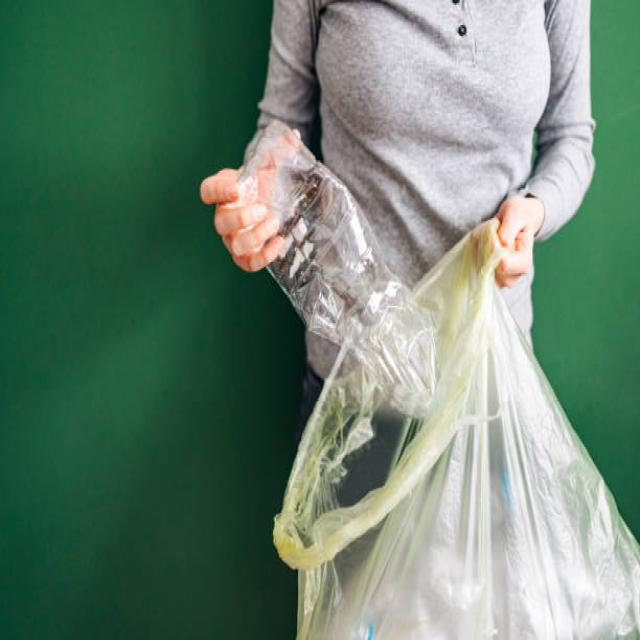plastic_bag: (260, 201, 639, 638)
plastic_bottle: (223, 101, 452, 418)
